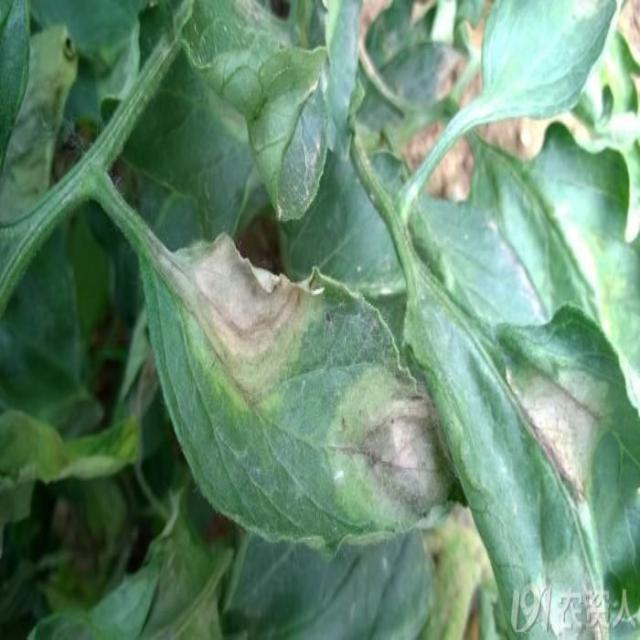Early_blight: (164, 232, 321, 407), (328, 370, 460, 523), (509, 356, 615, 503)
